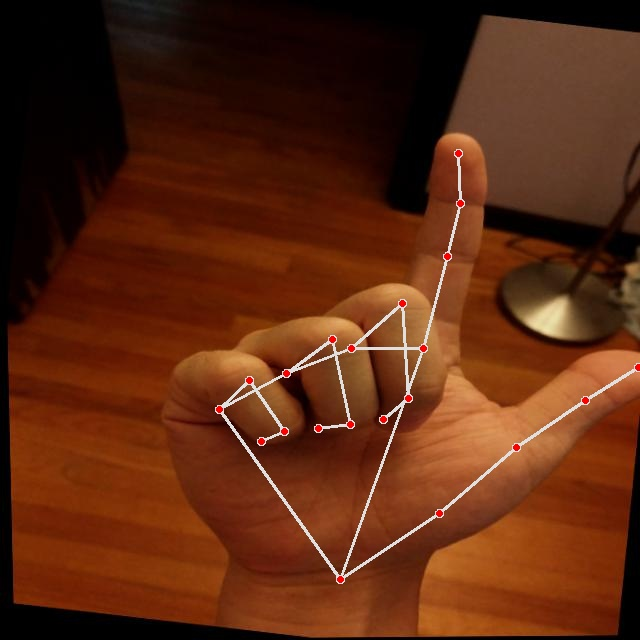L: (124, 90, 639, 623)
